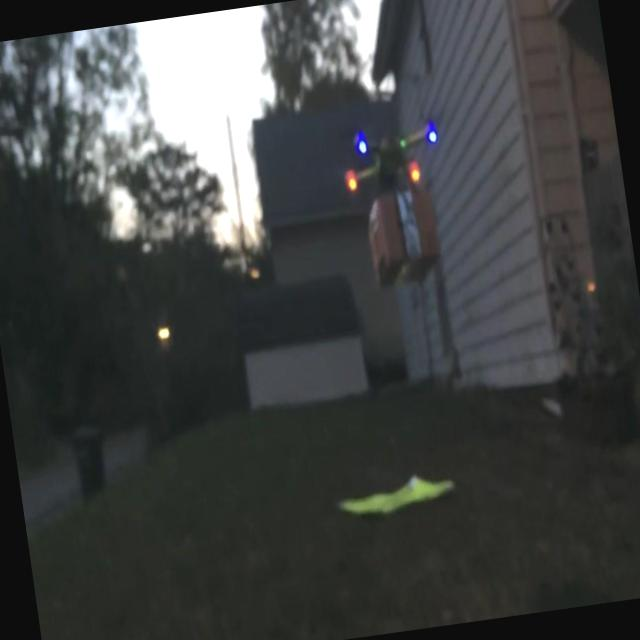drone: (329, 115, 446, 198)
